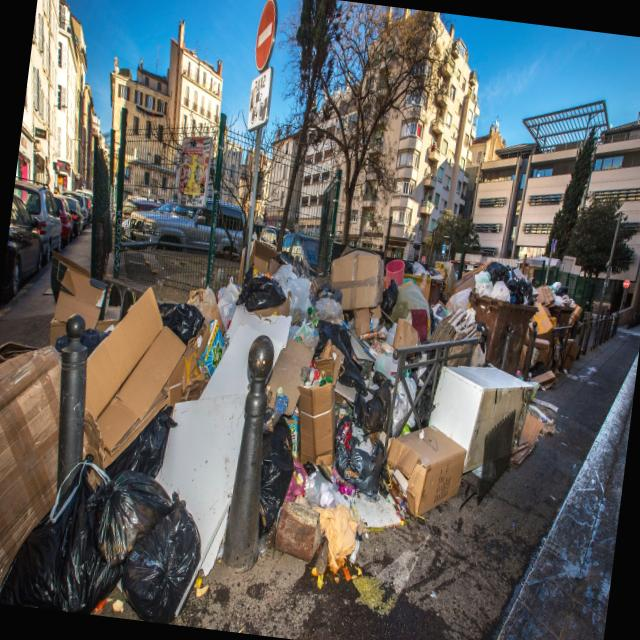garbage: (0, 214, 573, 640)
